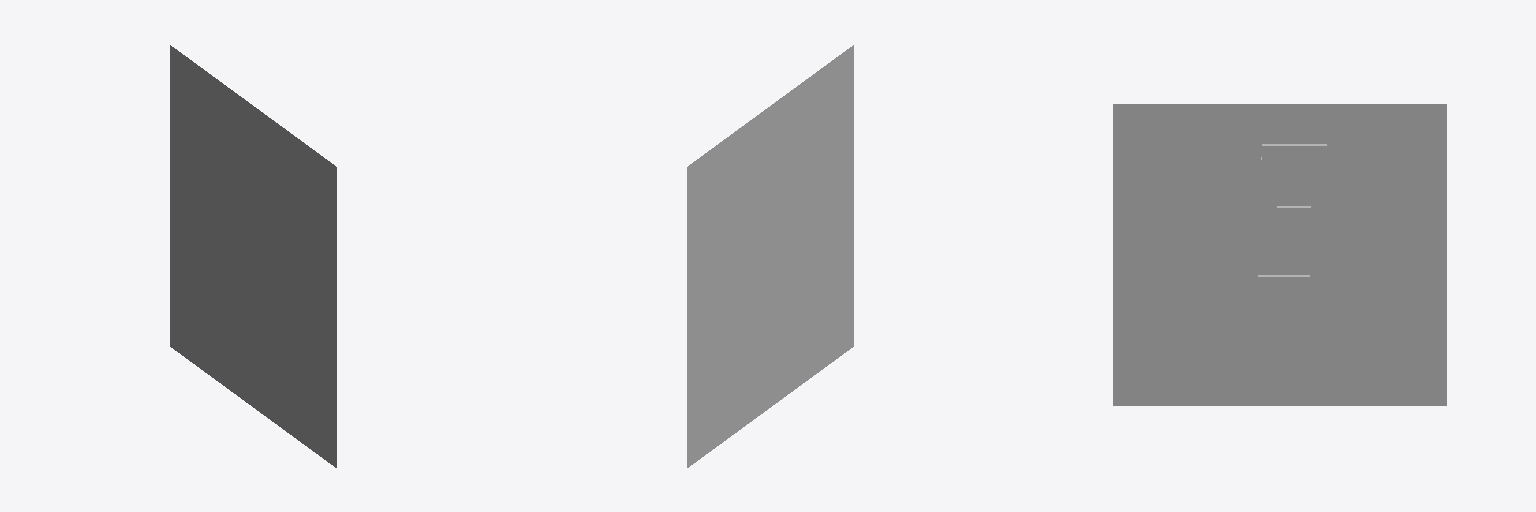
Rendered from cifra9.obj.
3 renders of one model, left to right at view 1: azimuth 30°, elevation 25°; view 2: azimuth 150°, elevation 25°; view 3: azimuth 270°, elevation 25°, orthographic.
Visible parts, largest first — view 1: Plane; view 2: Plane; view 3: Plane, Cube.004_Cube.005, Cube_Cube.001, Cube.001_Cube.002, Cube.003_Cube.004, Cube.002_Cube.003, Cube.005_Cube.006.
Boxes of the visible parts, box(x1,y1,x2,y2) form: Plane: box(170, 45, 336, 467); Plane: box(687, 45, 853, 467); Plane: box(1113, 104, 1446, 405); Cube.004_Cube.005: box(1258, 275, 1324, 291); Cube_Cube.001: box(1262, 144, 1326, 159); Cube.001_Cube.002: box(1262, 206, 1325, 222); Cube.003_Cube.004: box(1310, 223, 1324, 276); Cube.002_Cube.003: box(1261, 157, 1276, 207); Cube.005_Cube.006: box(1311, 160, 1326, 207).
Bounding box in the file's own units: 0.0363 × 2 × 2.